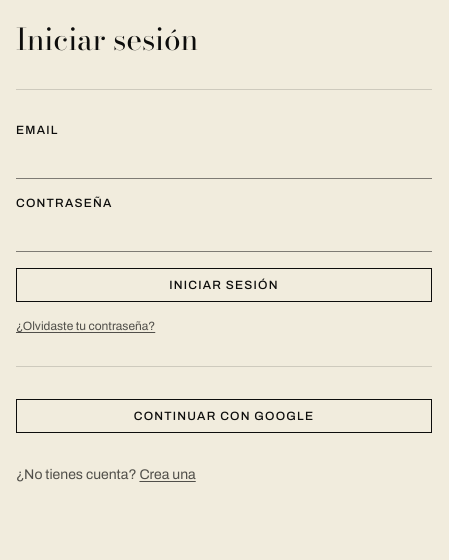
Test: handoff del destino de redirect entre login y registro › el link "Crea una" desde login navega a registro sin perder el intento de checkout
Step 1. Click the link "Crea una" → click(168, 474), box x1=139 y1=467 x2=196 y2=482
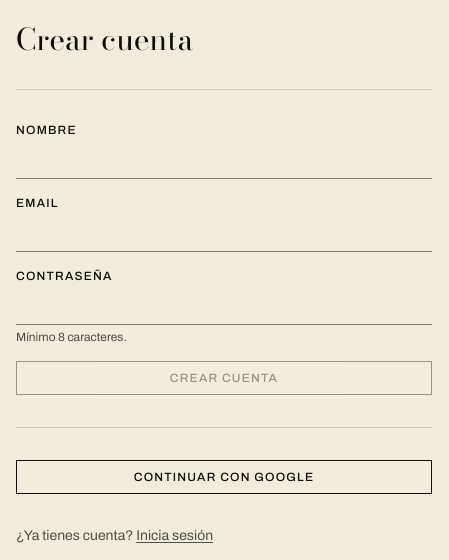
Result: the heading "Crear cuenta" is shown at x1=16 y1=16 x2=193 y2=62
